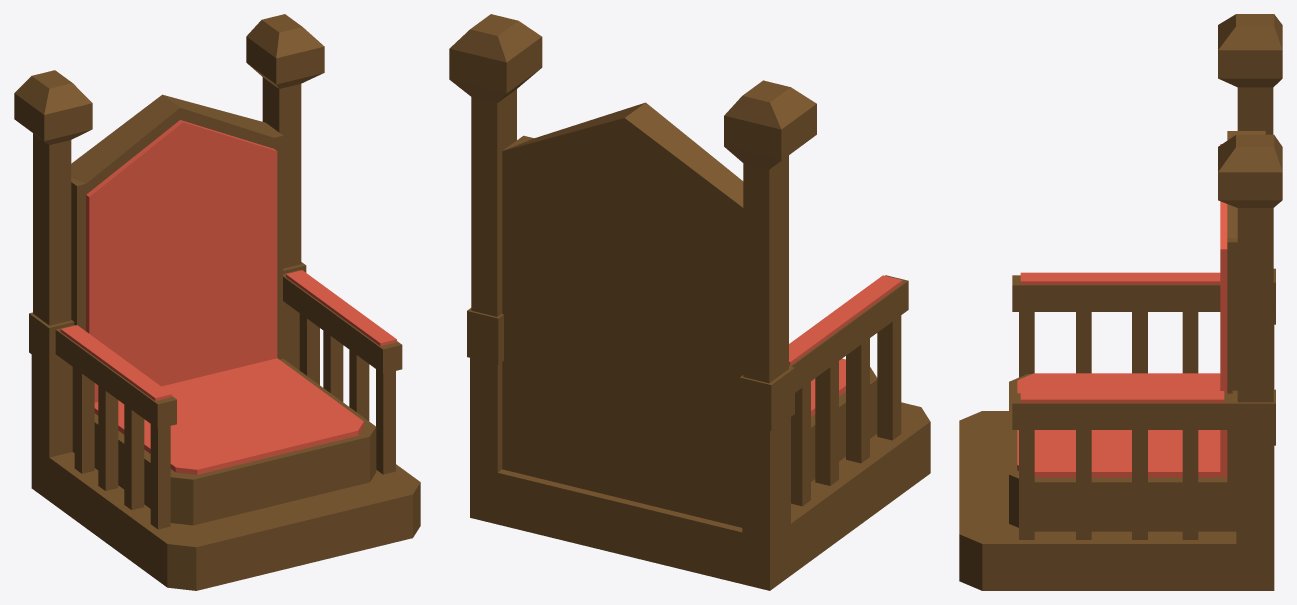
File: Noble_Seat1.fbx
3 renders of one model, left to right at view 1: azimuth 30°, elevation 25°; view 2: azimuth 150°, elevation 25°; view 3: azimuth 270°, elevation 25°, orthographic. The views are drawn at different scales.
Visible parts, largest first — view 1: Noble_Seat1; view 2: Noble_Seat1; view 3: Noble_Seat1.
Boxes of the visible parts, x1=… form: Noble_Seat1: x1=14, y1=14, x2=420, y2=590; Noble_Seat1: x1=449, y1=14, x2=930, y2=590; Noble_Seat1: x1=959, y1=14, x2=1282, y2=590.
Size of the model in its own units: 171 by 240 by 159.
